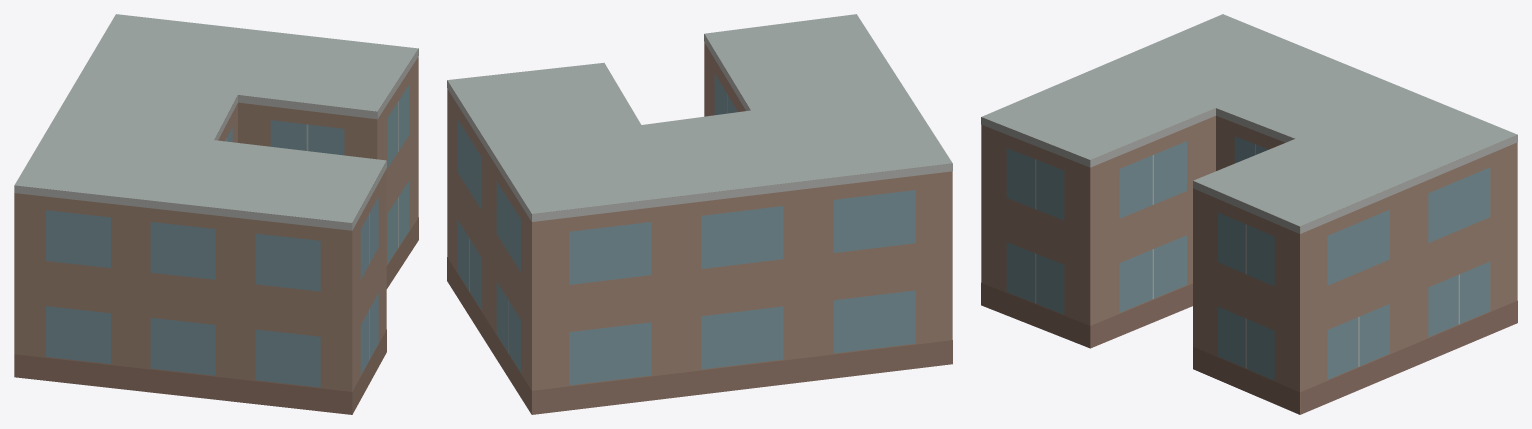
Rendered from survey-upis-32977115.glb.
3 renders of one model, left to right at view 1: azimuth 30°, elevation 25°; view 2: azimuth 150°, elevation 25°; view 3: azimuth 270°, elevation 25°, orthographic. The views are drawn at different scales.
Visible parts, largest first — view 1: survey-upis-32977115.tmp; view 2: survey-upis-32977115.tmp; view 3: survey-upis-32977115.tmp.
Part boxes in pixels (x1,y1,x2,y2): survey-upis-32977115.tmp: (14,14,418,414); survey-upis-32977115.tmp: (447,14,952,414); survey-upis-32977115.tmp: (981,14,1517,414).
Bounding box in the file's own units: 14.77 × 6.1 × 15.76.
